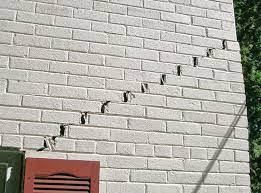stairstep_crack: (35, 38, 226, 152)
